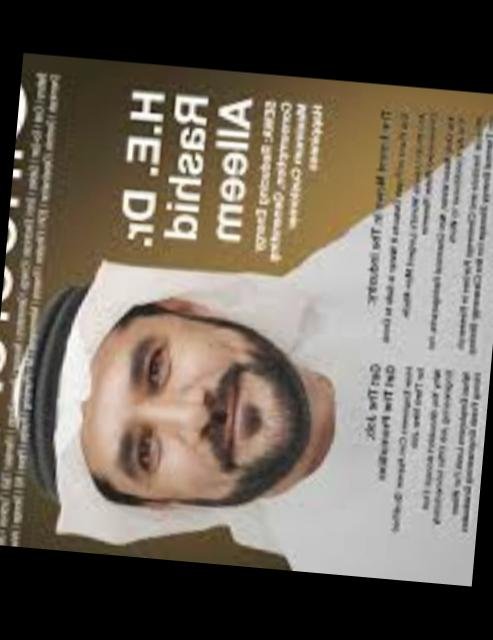cardboard paper: (0, 53, 493, 587)
